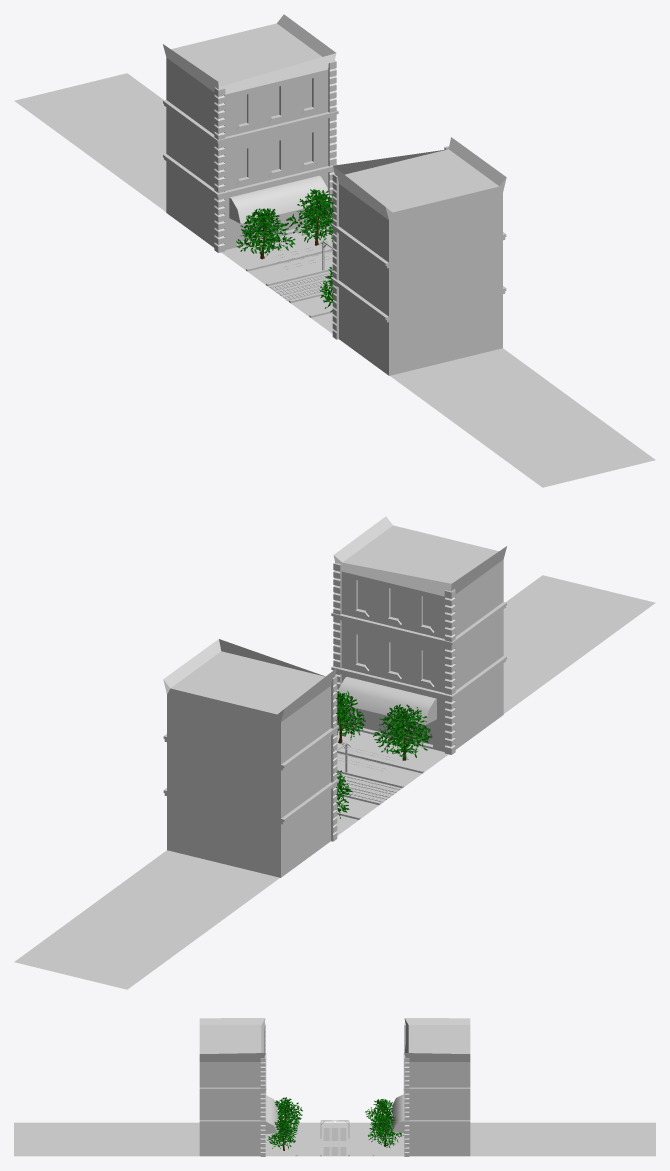
Rendered from City_1.fbx.
3 renders of one model, top to bottom at view 1: azimuth 30°, elevation 25°; view 2: azimuth 150°, elevation 25°; view 3: azimuth 270°, elevation 25°, orthographic. The views are drawn at different scales.
Parts seen in each view (by area): view 1: Box001, Plane001, Box002, Ev 002, Ev 1, Object002, Foliage003, Foliage004, Object003, Object001; view 2: Box002, Plane001, Box001, Ev 1, Ev 002, Foliage001, Object002, Object003, Object001, Foliage002; view 3: Plane001, Box001, Box002, Ev 002, Ev 1, Object002, Object003, Foliage004, Foliage002, Foliage001, Foliage003, Object001 (+1 smaller).
Part boxes in pixels (x1=…): Box001: x1=339, y1=149, x2=502, y2=375; Plane001: x1=14, y1=73, x2=655, y2=487; Box002: x1=166, y1=23, x2=328, y2=249; Ev 002: x1=163, y1=14, x2=338, y2=252; Ev 1: x1=331, y1=137, x2=506, y2=339; Object002: x1=248, y1=251, x2=334, y2=316; Foliage003: x1=236, y1=208, x2=295, y2=259; Foliage004: x1=286, y1=189, x2=333, y2=245; Object003: x1=230, y1=233, x2=334, y2=329; Object001: x1=246, y1=240, x2=333, y2=317; Box002: x1=167, y1=651, x2=330, y2=877; Plane001: x1=14, y1=575, x2=655, y2=989; Box001: x1=341, y1=525, x2=503, y2=751; Ev 1: x1=331, y1=516, x2=506, y2=754; Ev 002: x1=163, y1=639, x2=338, y2=841; Foliage001: x1=373, y1=704, x2=432, y2=760; Object002: x1=335, y1=753, x2=421, y2=818; Object003: x1=335, y1=735, x2=439, y2=831; Object001: x1=336, y1=742, x2=423, y2=819; Foliage002: x1=336, y1=691, x2=365, y2=743; Plane001: x1=14, y1=1122, x2=655, y2=1156; Box001: x1=199, y1=1025, x2=261, y2=1156; Box002: x1=408, y1=1025, x2=470, y2=1156; Ev 002: x1=392, y1=1018, x2=470, y2=1156; Ev 1: x1=199, y1=1018, x2=277, y2=1156; Object002: x1=297, y1=1122, x2=372, y2=1156; Object003: x1=276, y1=1122, x2=393, y2=1156; Foliage004: x1=368, y1=1113, x2=403, y2=1147; Foliage002: x1=267, y1=1119, x2=297, y2=1150; Foliage001: x1=274, y1=1097, x2=302, y2=1129; Foliage003: x1=365, y1=1099, x2=393, y2=1130; Object001: x1=295, y1=1120, x2=374, y2=1156.
Bounding box in the file's own units: 1059 × 1429 × 8000.
